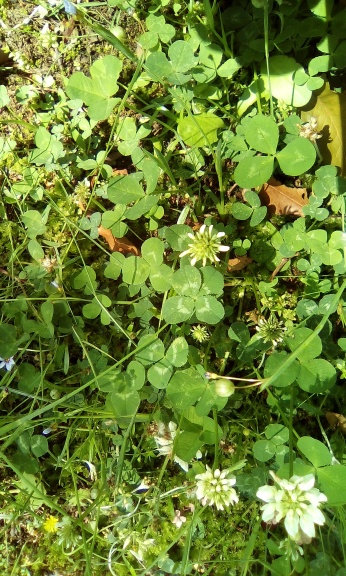4leaf: (160, 263, 225, 325)
